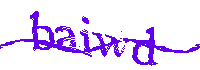a: (54, 24, 77, 53)
b: (30, 11, 55, 51)
d: (133, 26, 159, 68)
i: (78, 16, 94, 58)
w: (93, 31, 132, 58)
